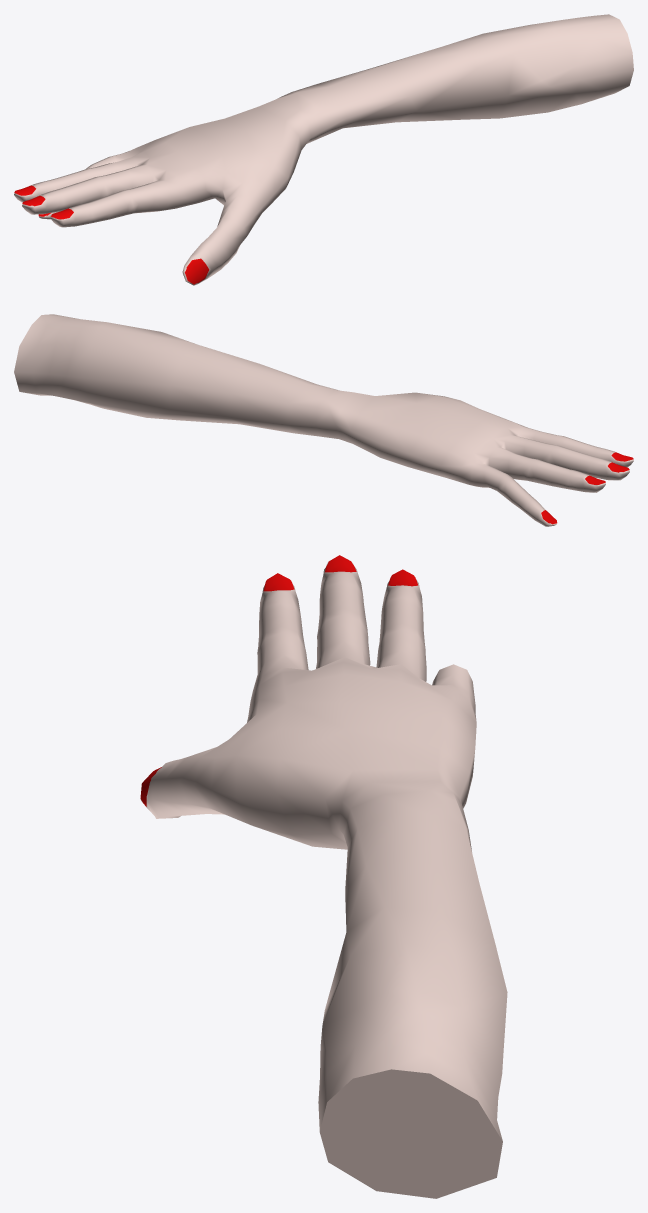
File: Hand.fbx
The picture shows the model from 3 angles, top to bottom: view 1: azimuth 30°, elevation 25°; view 2: azimuth 150°, elevation 25°; view 3: azimuth 270°, elevation 25°; orthographic projection. The views are drawn at different scales.
Parts seen in each view (by area): view 1: polySurface1286; view 2: polySurface1286; view 3: polySurface1286.
Boxes of the visible parts, bbox=[...] form: polySurface1286: bbox=[14, 14, 633, 285]; polySurface1286: bbox=[14, 314, 633, 526]; polySurface1286: bbox=[140, 555, 507, 1198].
Size of the model in its own units: 34.15 by 5.86 by 9.42.
